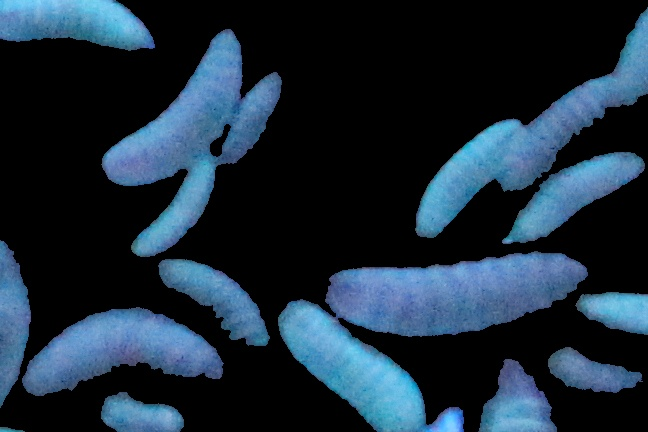larvae: (100, 28, 240, 184), (324, 251, 587, 334), (277, 301, 429, 432), (25, 307, 224, 387), (490, 79, 627, 188), (414, 121, 525, 234), (504, 155, 640, 246), (157, 256, 271, 348), (129, 157, 214, 255), (1, 1, 156, 51), (205, 73, 283, 164), (481, 356, 562, 432), (1, 232, 32, 430), (577, 288, 648, 335)
